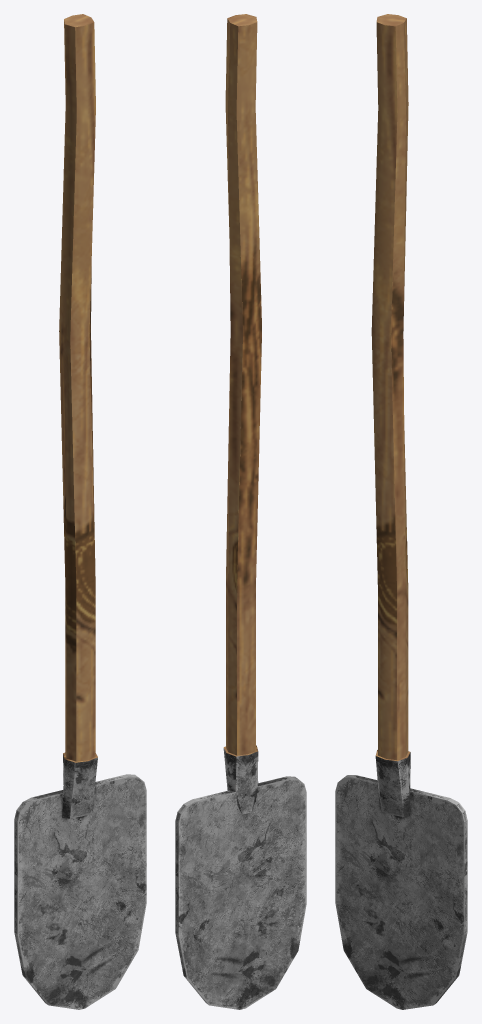
Rendered from shovel.fbx.
3 renders of one model, left to right at view 1: azimuth 30°, elevation 25°; view 2: azimuth 210°, elevation 25°; view 3: azimuth 330°, elevation 25°, orthographic.
Visible parts, largest first — view 1: Cube.001; view 2: Cube.001; view 3: Cube.001.
Boxes of the visible parts, x1,y1,x2,y2 form: Cube.001: (14, 14, 146, 1009); Cube.001: (175, 14, 306, 1009); Cube.001: (335, 14, 467, 1009).
Bounding box in the file's own units: 18.54 × 136 × 3.97.
1 material, 1 textured.
